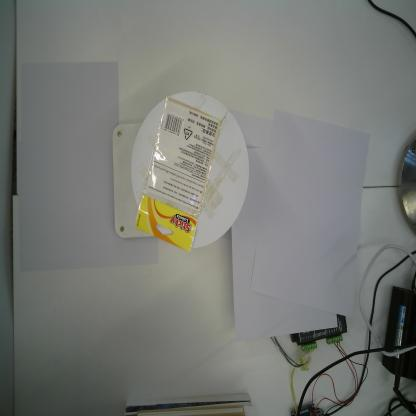Stationery: (134, 95, 222, 255)
